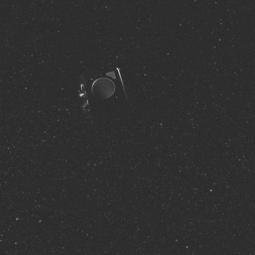proba_3_ocs: (66, 56, 151, 122)
